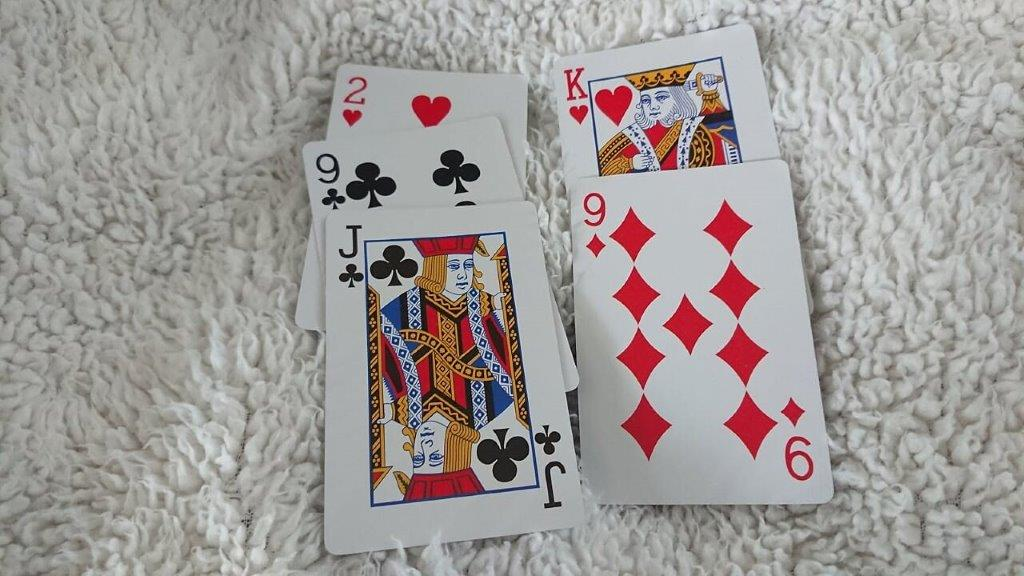2H: (338, 68, 372, 132)
9C: (308, 146, 353, 213)
9D: (574, 183, 619, 267)
JC: (330, 215, 375, 298)
KH: (560, 60, 600, 133)
